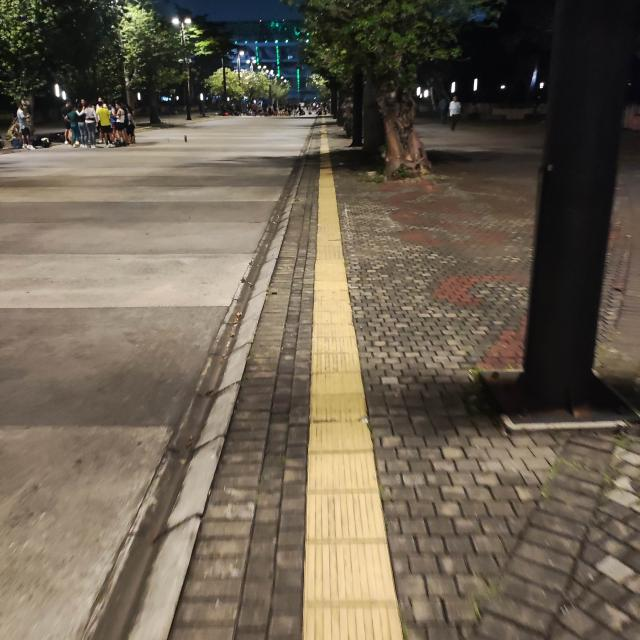lurus: (299, 201, 385, 640)
